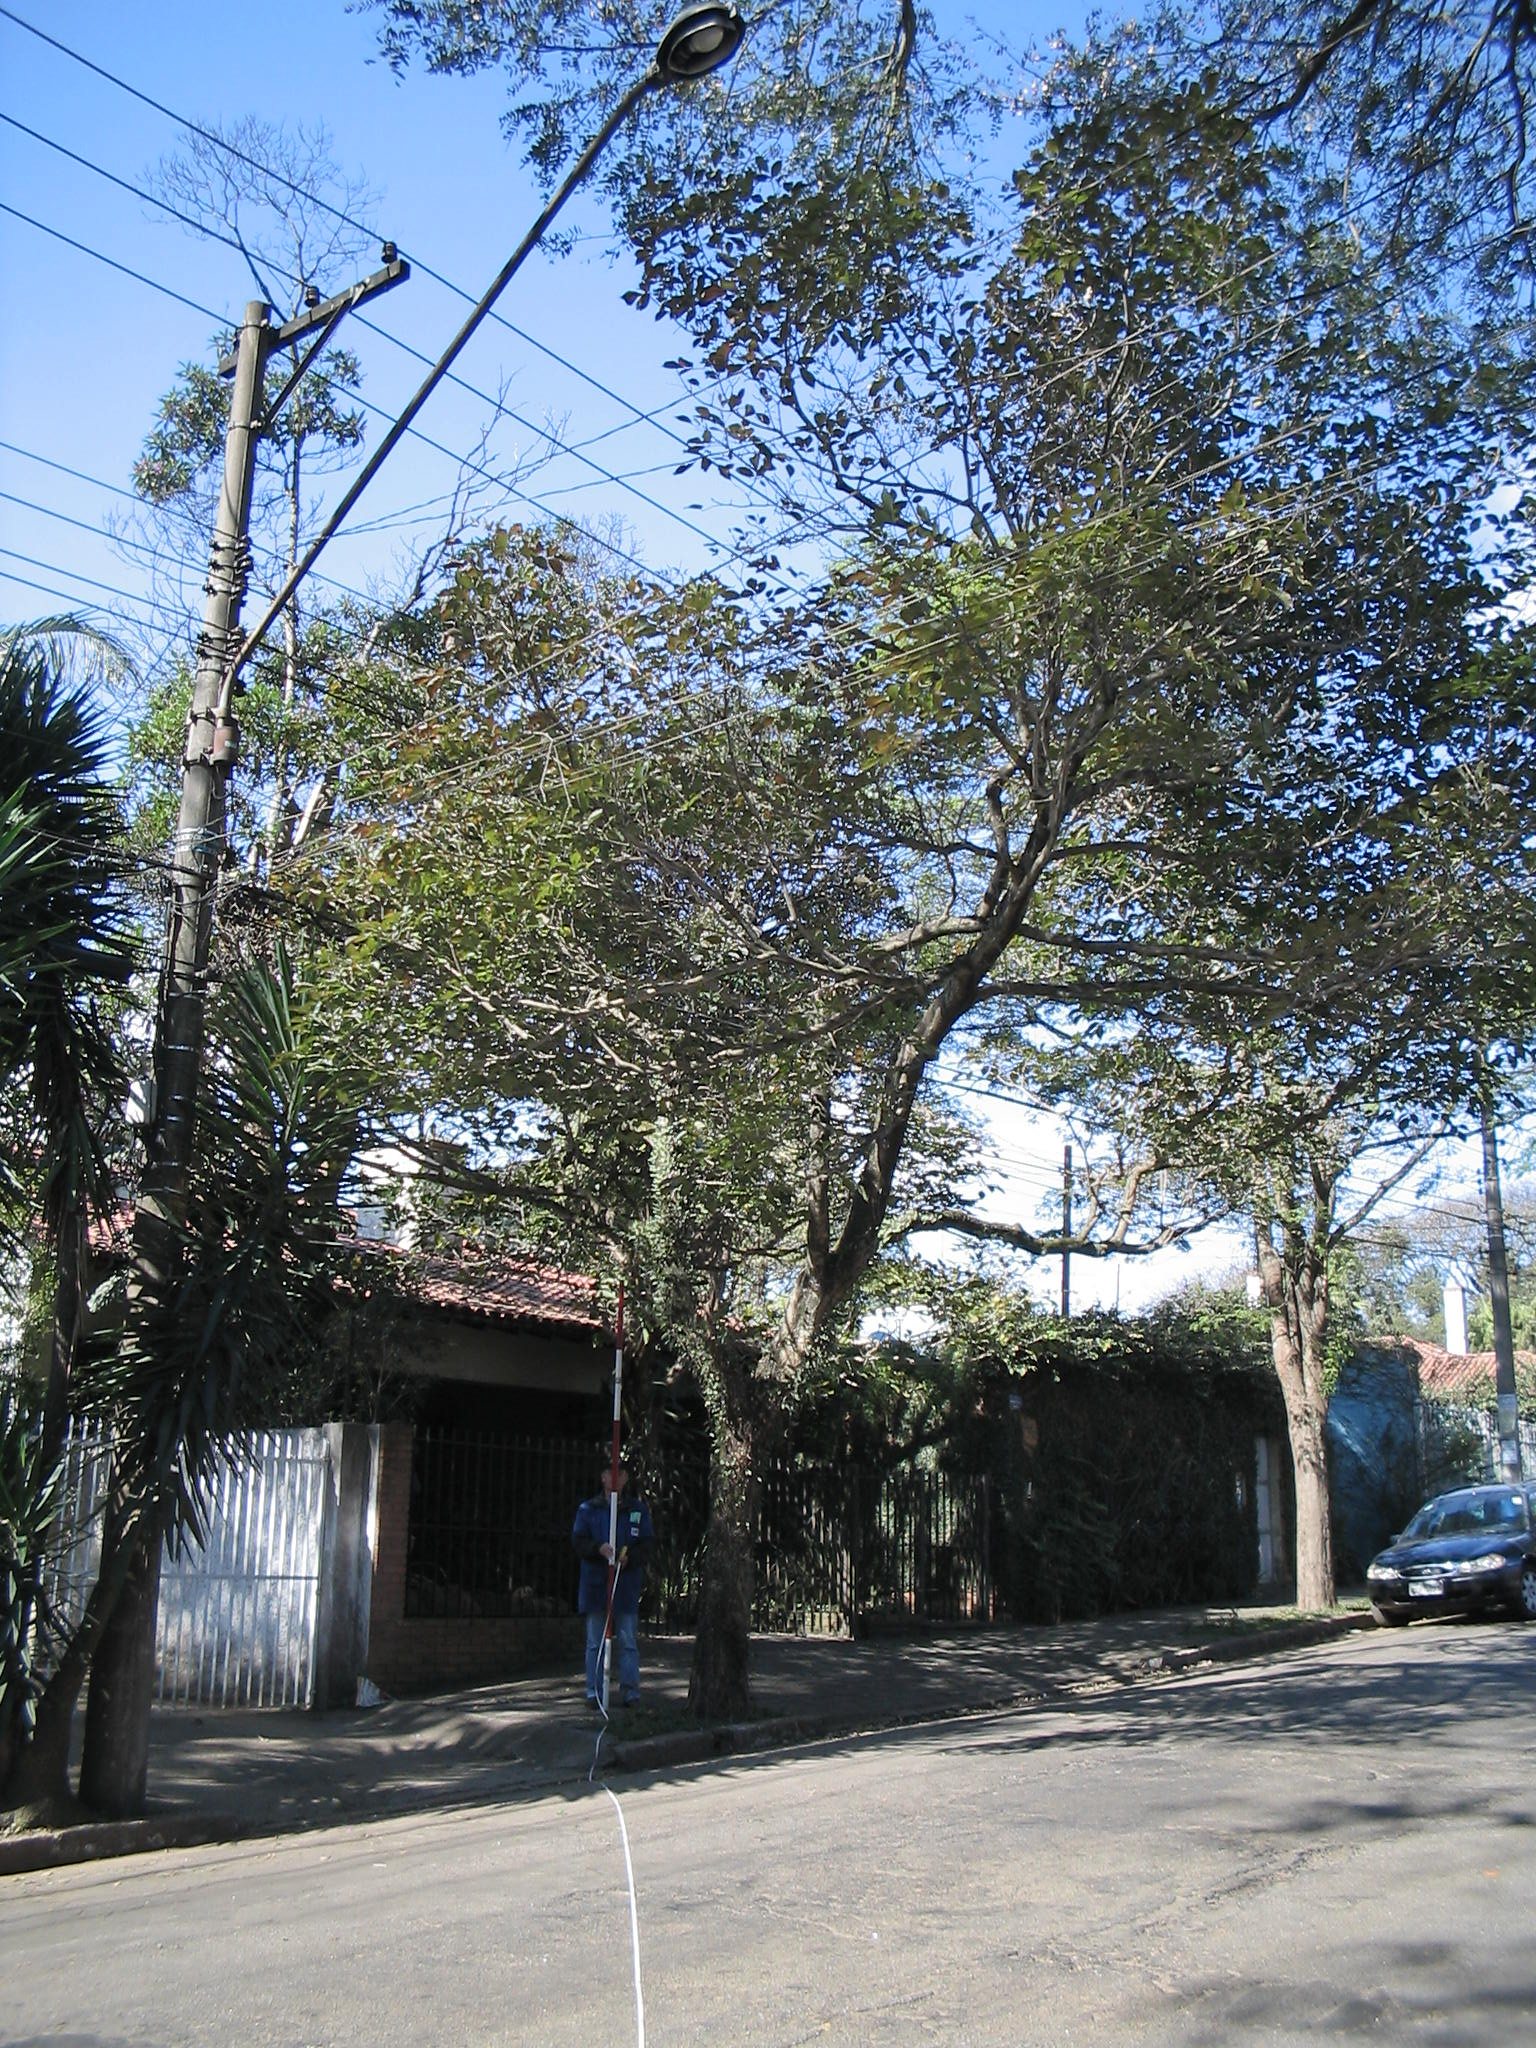crown: (113, 519, 1320, 1282)
stem: (663, 1427, 800, 1717), (1270, 1406, 1350, 1617)
stick: (574, 1276, 632, 1725)
tree: (106, 518, 1329, 1722)
